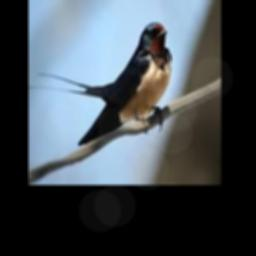Swallow: (28, 21, 171, 146)
